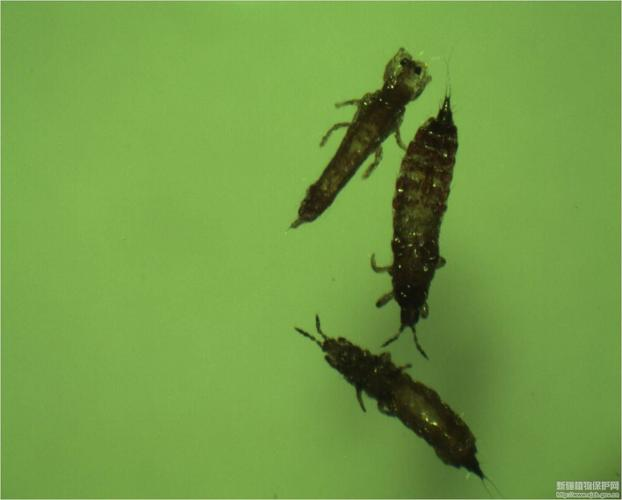Phlaeothripidae: (294, 312, 509, 500), (288, 49, 440, 236), (372, 93, 474, 356)
